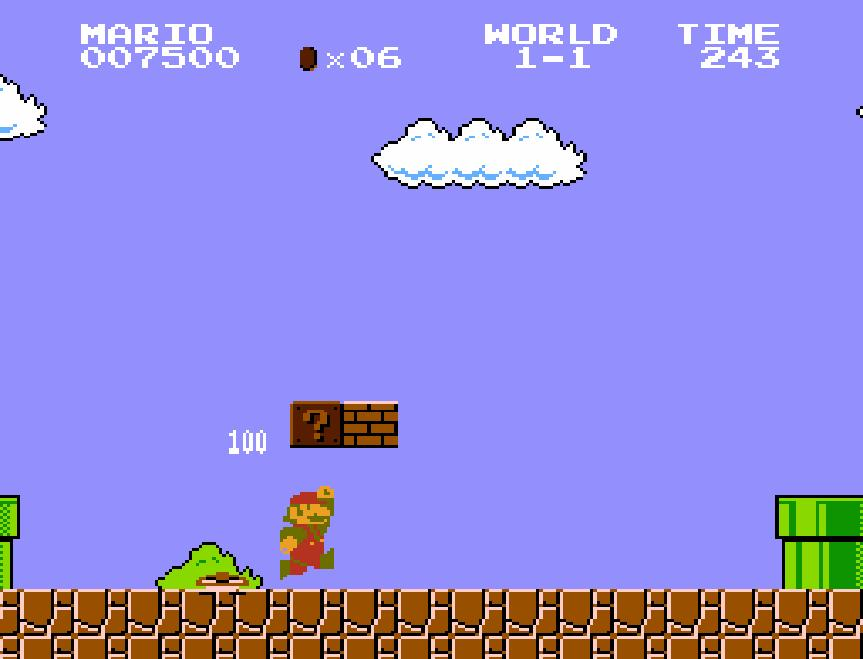big_mario: (278, 484, 336, 582)
